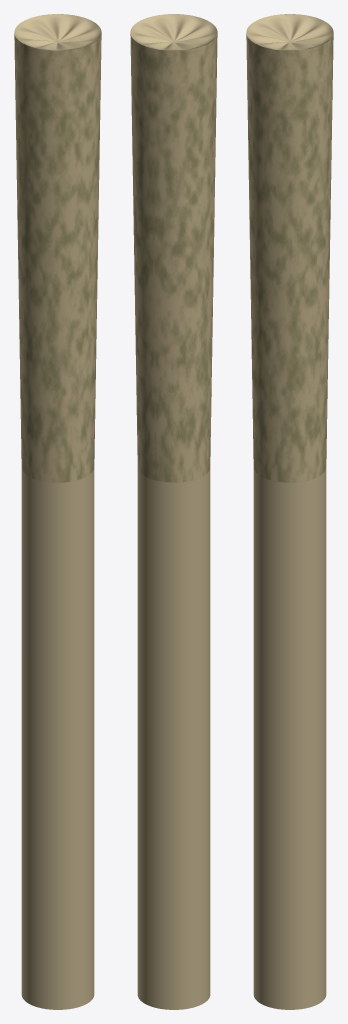
3 views of the same model, side by side, from view 1: azimuth 90°, elevation 25°; view 2: azimuth 150°, elevation 25°; view 3: azimuth 270°, elevation 25° (orthographic).
Parts seen in each view (by area): view 1: cone0; view 2: cone0; view 3: cone0.
Part boxes in pixels (bbox=[...]): cone0: bbox=[14, 14, 101, 1009]; cone0: bbox=[130, 14, 217, 1009]; cone0: bbox=[246, 14, 333, 1009].
Size of the model in its own units: 0.006 by 0.073 by 0.006.
2 materials, 1 textured.
